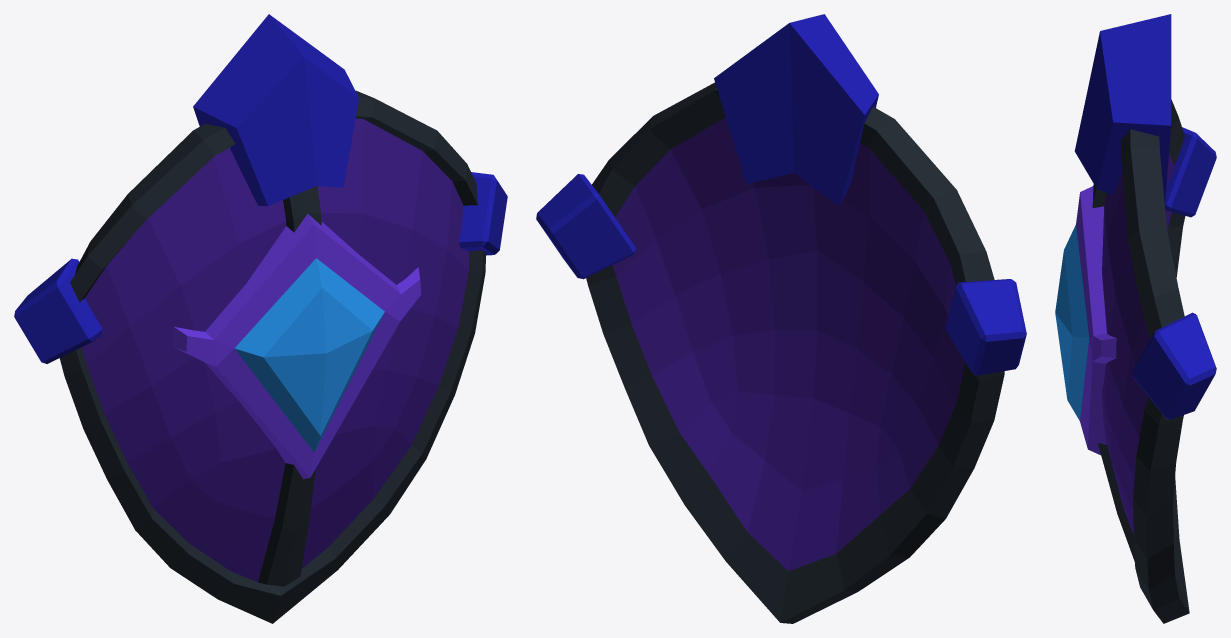
3 renders of one model, left to right at view 1: azimuth 30°, elevation 25°; view 2: azimuth 150°, elevation 25°; view 3: azimuth 270°, elevation 25°, orthographic.
Visible parts, largest first — view 1: shield09; view 2: shield09; view 3: shield09.
Boxes of the visible parts, <box> form: shield09: <box>14,14,507,623</box>; shield09: <box>536,14,1026,623</box>; shield09: <box>1055,14,1216,623</box>.
Bounding box in the file's own units: 67.93 × 19.24 × 80.12.
1 material, 1 textured.
